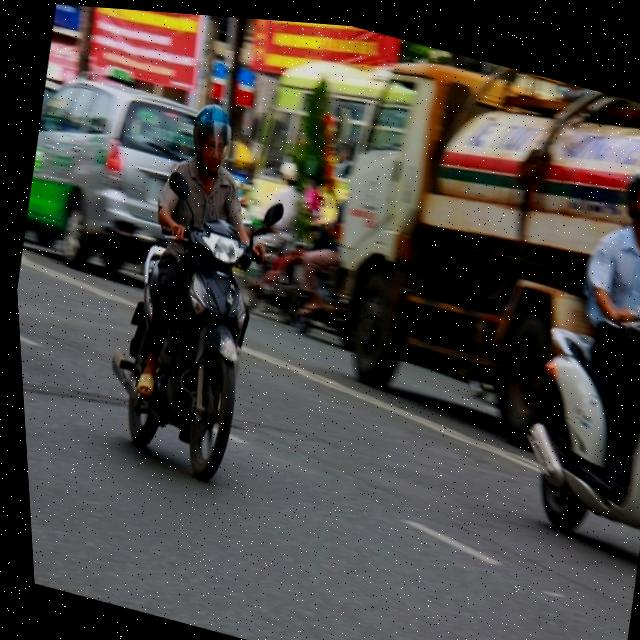car: (301, 41, 640, 462), (12, 61, 222, 300)
motorcycle: (91, 187, 287, 494), (494, 274, 640, 572)
